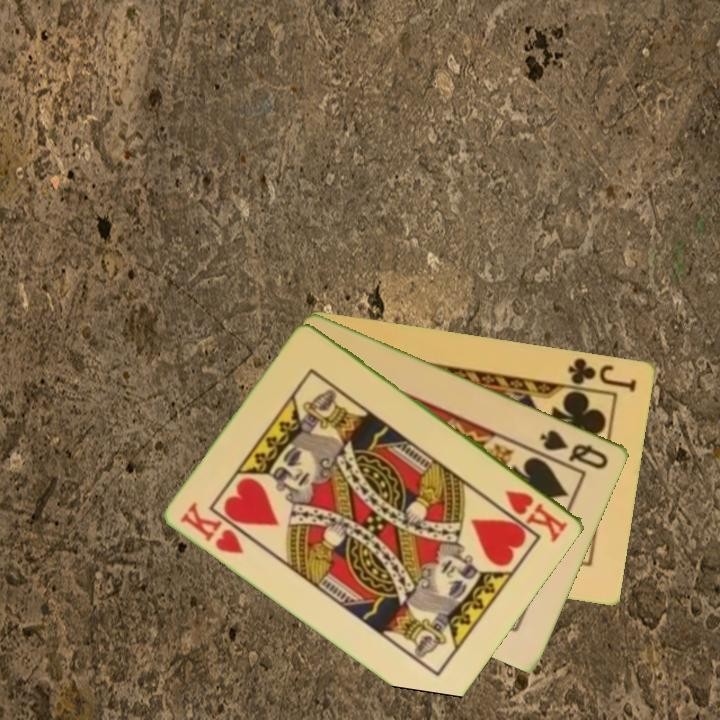Jc: (565, 354, 640, 395)
Kh: (177, 498, 248, 557), (502, 486, 572, 545)
Qs: (537, 426, 612, 472)
